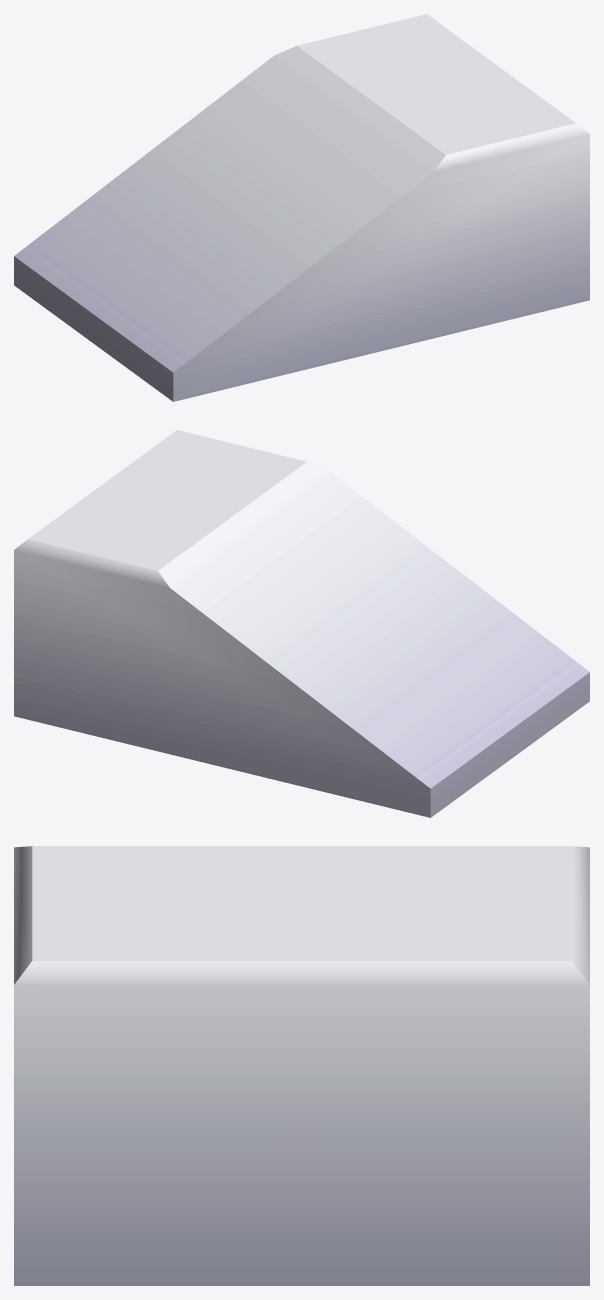
Rendered from none-hq-brick-slope-3x2.glb.
The picture shows the model from 3 angles, top to bottom: view 1: azimuth 30°, elevation 25°; view 2: azimuth 150°, elevation 25°; view 3: azimuth 270°, elevation 25°; orthographic projection. The views are drawn at different scales.
Visible parts, largest first — view 1: none-hq-brick-slope-3x2; view 2: none-hq-brick-slope-3x2; view 3: none-hq-brick-slope-3x2.
Boxes of the visible parts, x1,y1,x2,y2 form: none-hq-brick-slope-3x2: (14, 14, 589, 401); none-hq-brick-slope-3x2: (14, 430, 589, 817); none-hq-brick-slope-3x2: (14, 846, 589, 1285).
Size of the model in its own units: 0.2385 by 0.096 by 0.158.
1 material, 1 textured.
